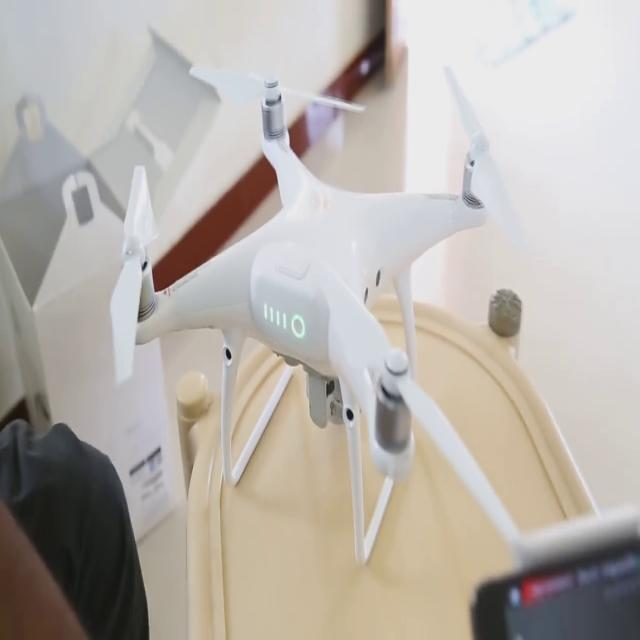drone: (99, 43, 557, 551)
